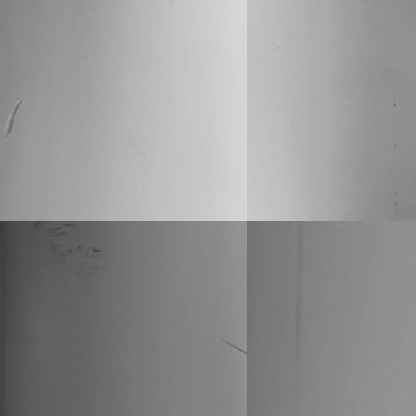sunshang: (4, 95, 19, 140), (218, 336, 247, 359)
